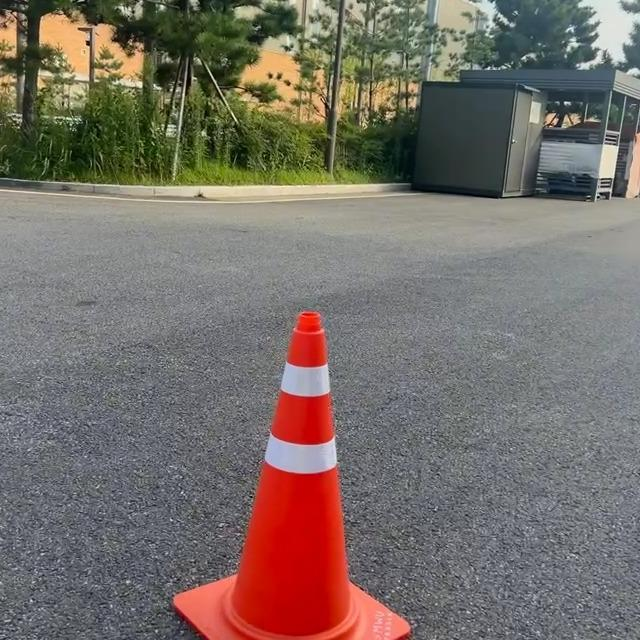fallen_object: (140, 286, 393, 640)
